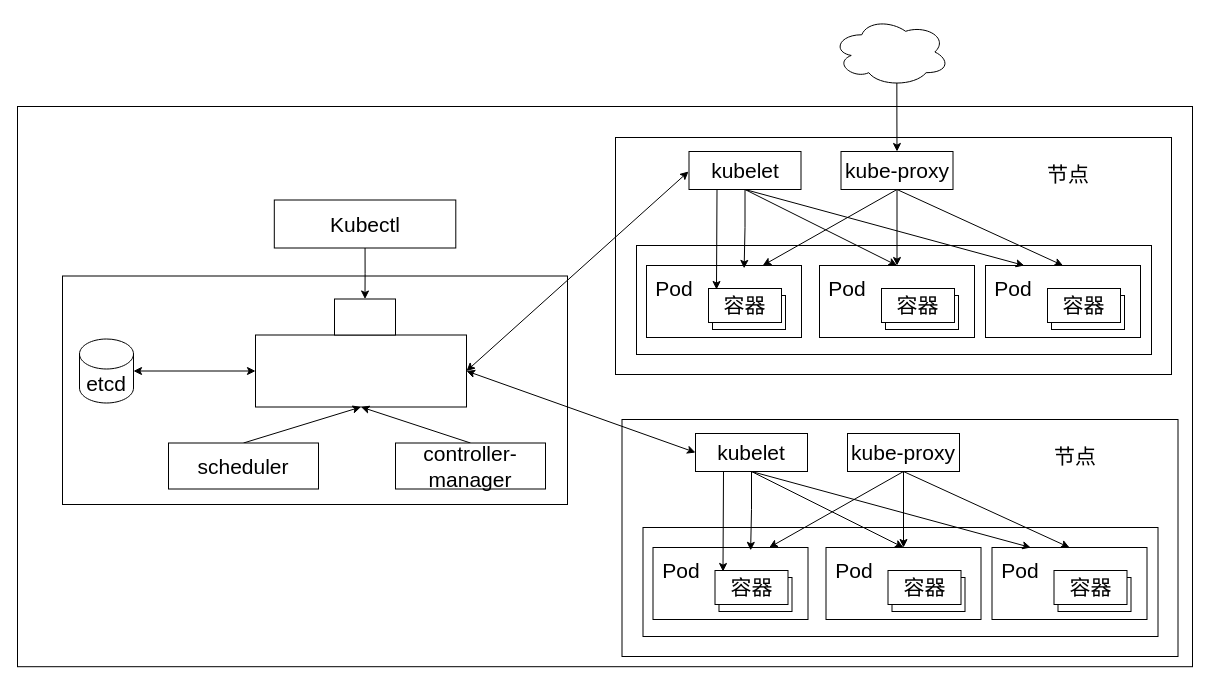
Some shapes in this 1210 by 685 pixel diagram are drawn without their labels. The box of each missing label's shape, as (x1, y1, x2, y2) in pixels:
api-server: (254, 334, 466, 407)
外网: (832, 16, 950, 86)
认证: (334, 298, 396, 335)
